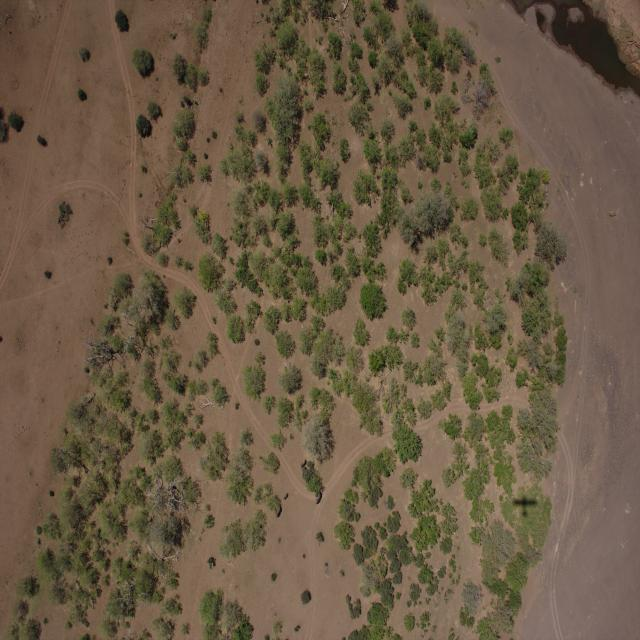elephant: (315, 493, 322, 505), (276, 506, 281, 518), (282, 493, 288, 500), (300, 460, 305, 468), (315, 492, 318, 496)
